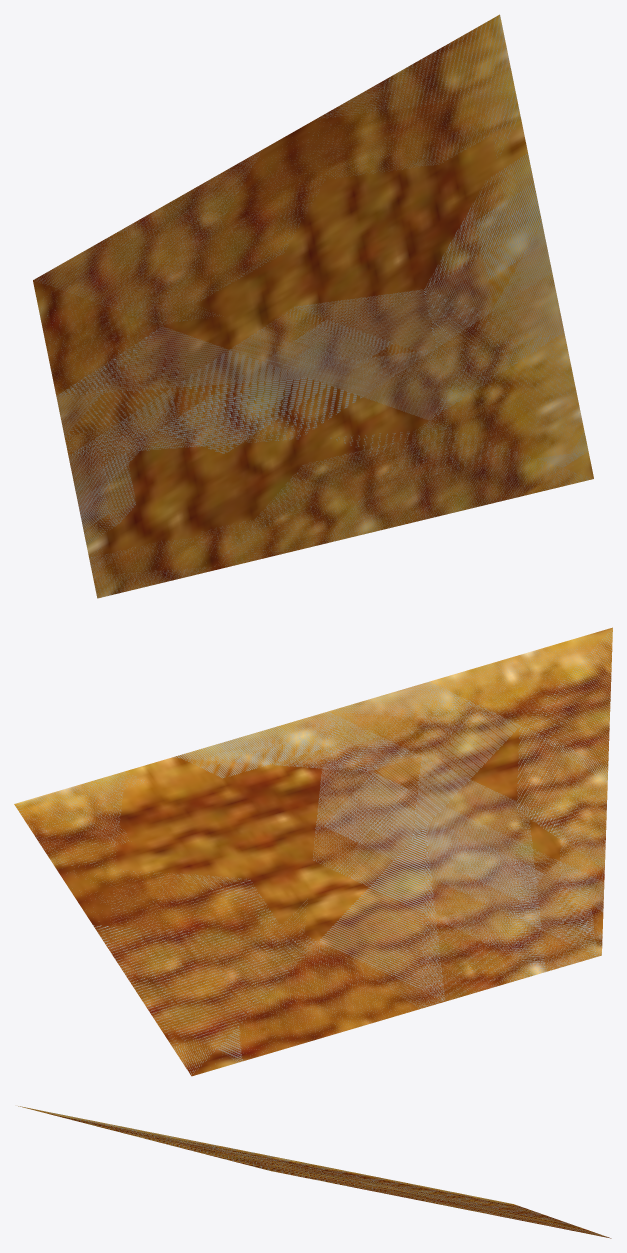
File: 西庸城堡559.dae
3 views of the same model, one above another, from view 1: azimuth 30°, elevation 25°; view 2: azimuth 150°, elevation 25°; view 3: azimuth 270°, elevation 25° (orthographic). The views are drawn at different scales.
Visible parts, largest first — view 1: SketchUp; view 2: SketchUp; view 3: SketchUp.
Part boxes in pixels (left/top/right/bottom): SketchUp: left=33, top=14, right=593, bottom=598; SketchUp: left=14, top=627, right=612, bottom=1076; SketchUp: left=18, top=1106, right=611, bottom=1238.
Size of the model in its own units: 62.58 by 101 by 23.07.
